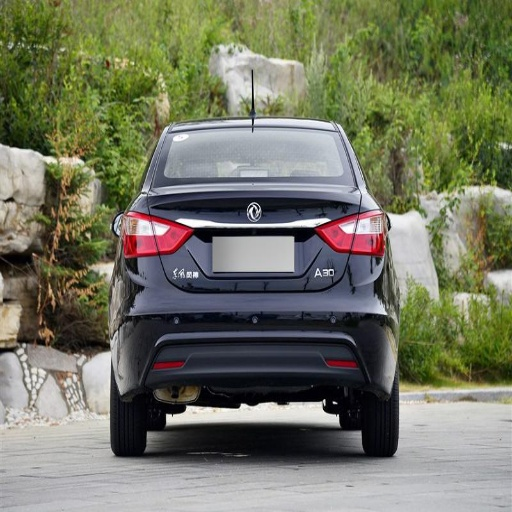back_bumper: (110, 255, 399, 406)
tailgate: (145, 180, 358, 293)
trunk: (138, 193, 209, 293)
